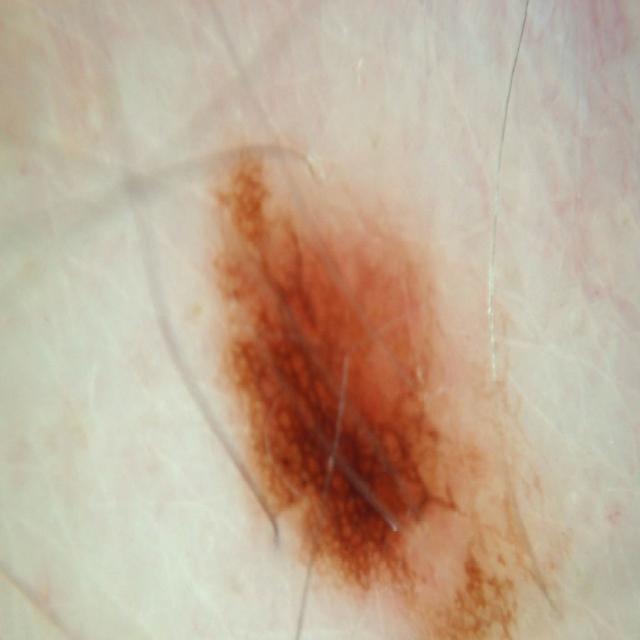Melanoma: (156, 113, 573, 640)
